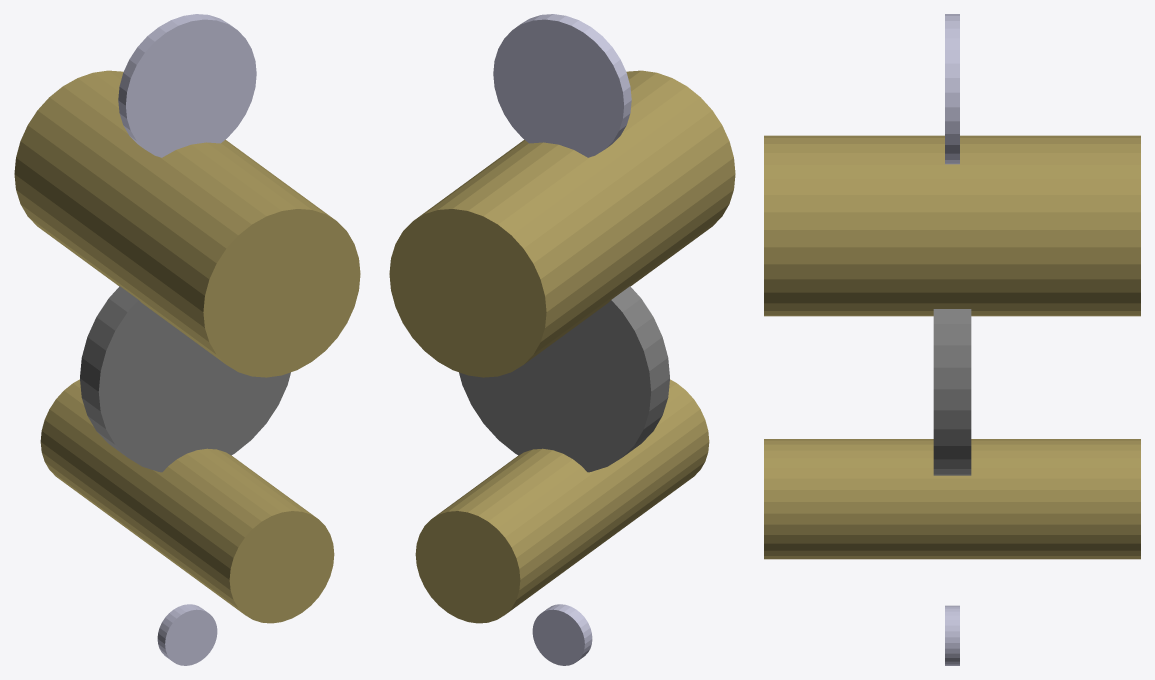
File: hero.glb
3 renders of one model, left to right at view 1: azimuth 30°, elevation 25°; view 2: azimuth 150°, elevation 25°; view 3: azimuth 270°, elevation 25°, orthographic.
Visible parts, largest first — view 1: outer-barrel, inner-barrel, mount-rings, objective-lens, eyepiece-lens; view 2: outer-barrel, inner-barrel, mount-rings, objective-lens, eyepiece-lens; view 3: outer-barrel, inner-barrel, mount-rings, objective-lens, eyepiece-lens.
Boxes of the visible parts, left/top/right/bottom form: outer-barrel: left=14, top=70, right=360, bottom=377; inner-barrel: left=40, top=379, right=334, bottom=623; mount-rings: left=80, top=286, right=290, bottom=472; objective-lens: left=118, top=14, right=256, bottom=157; eyepiece-lens: left=157, top=604, right=217, bottom=665; outer-barrel: left=389, top=70, right=735, bottom=377; inner-barrel: left=415, top=379, right=709, bottom=623; mount-rings: left=459, top=286, right=669, bottom=472; objective-lens: left=493, top=14, right=631, bottom=157; eyepiece-lens: left=532, top=604, right=592, bottom=665; outer-barrel: left=764, top=135, right=1140, bottom=316; inner-barrel: left=764, top=439, right=1140, bottom=559; mount-rings: left=933, top=309, right=971, bottom=475; objective-lens: left=945, top=14, right=959, bottom=164; eyepiece-lens: left=945, top=605, right=959, bottom=665.
Bounding box in the file's own units: 0.3 × 0.94 × 0.5.
